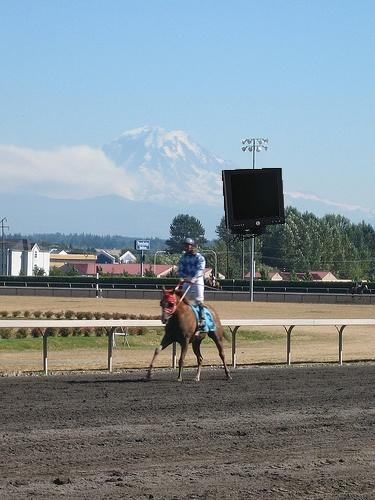tampered: (223, 169, 285, 243)
